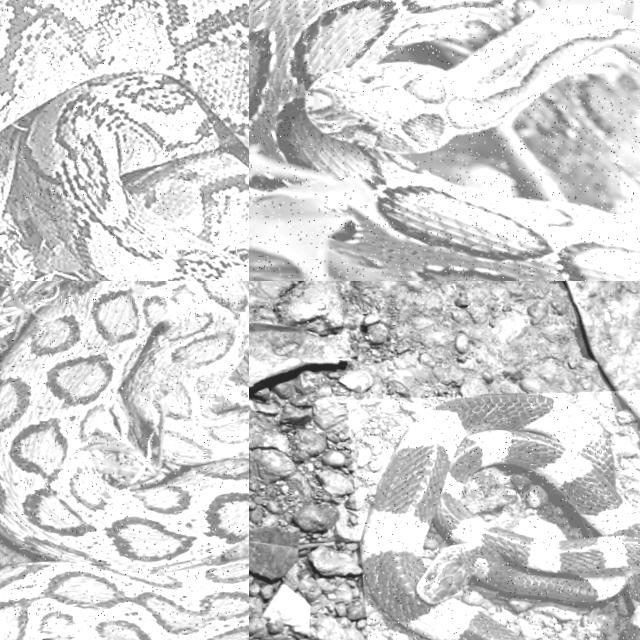Bungarus candidus: (360, 394, 639, 639)
Daboia siamensis: (249, 0, 639, 280), (0, 281, 248, 639)
Malayopython reticulatus: (0, 0, 248, 280)
